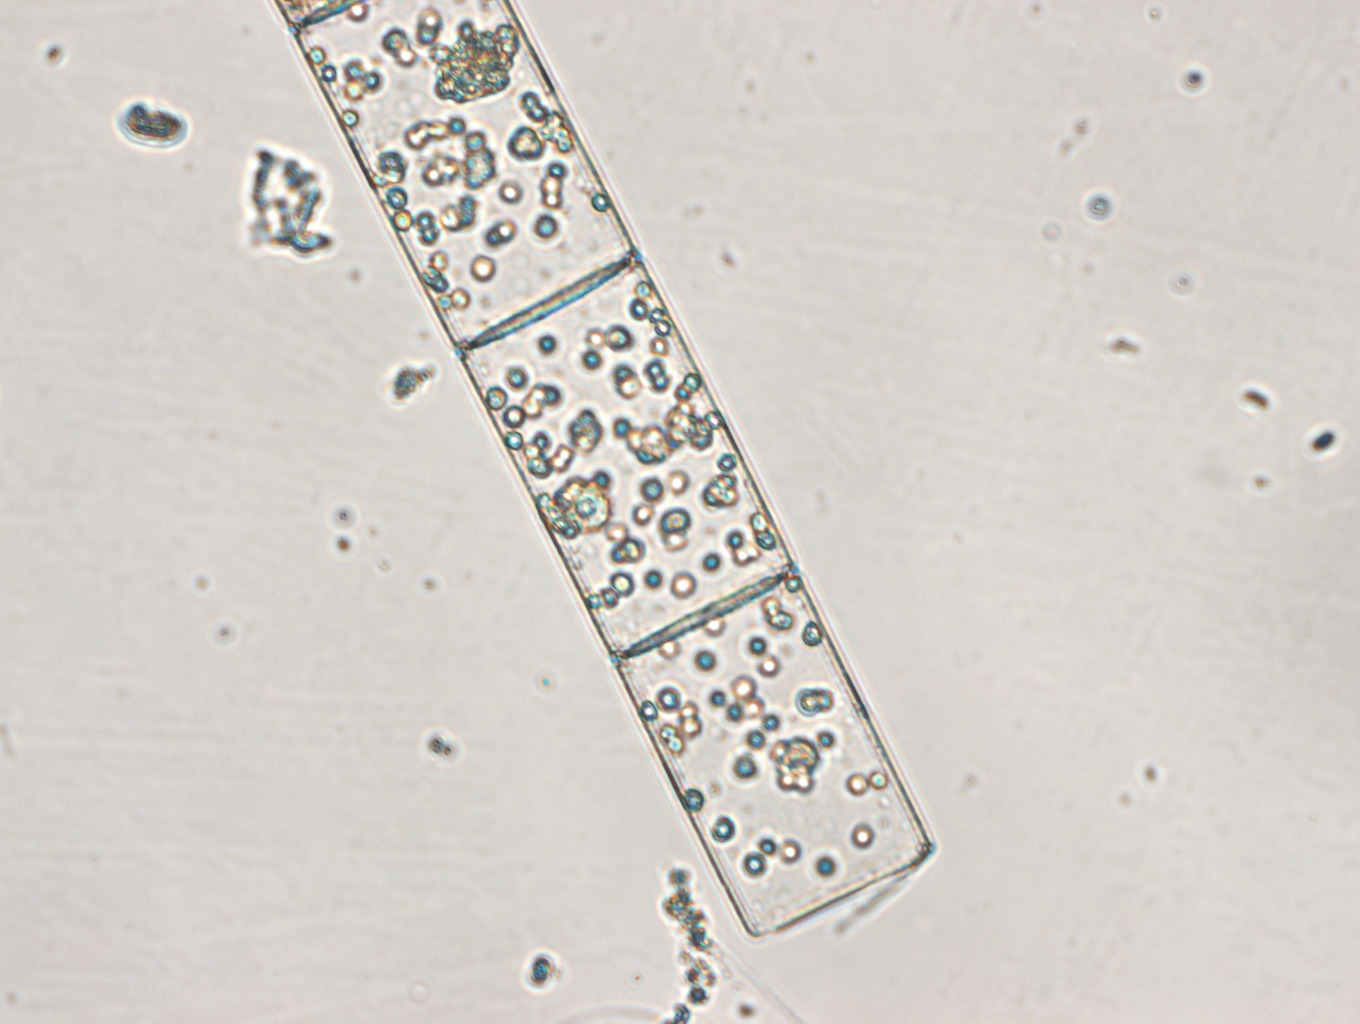guinardia flaccida: (272, 1, 939, 947)
